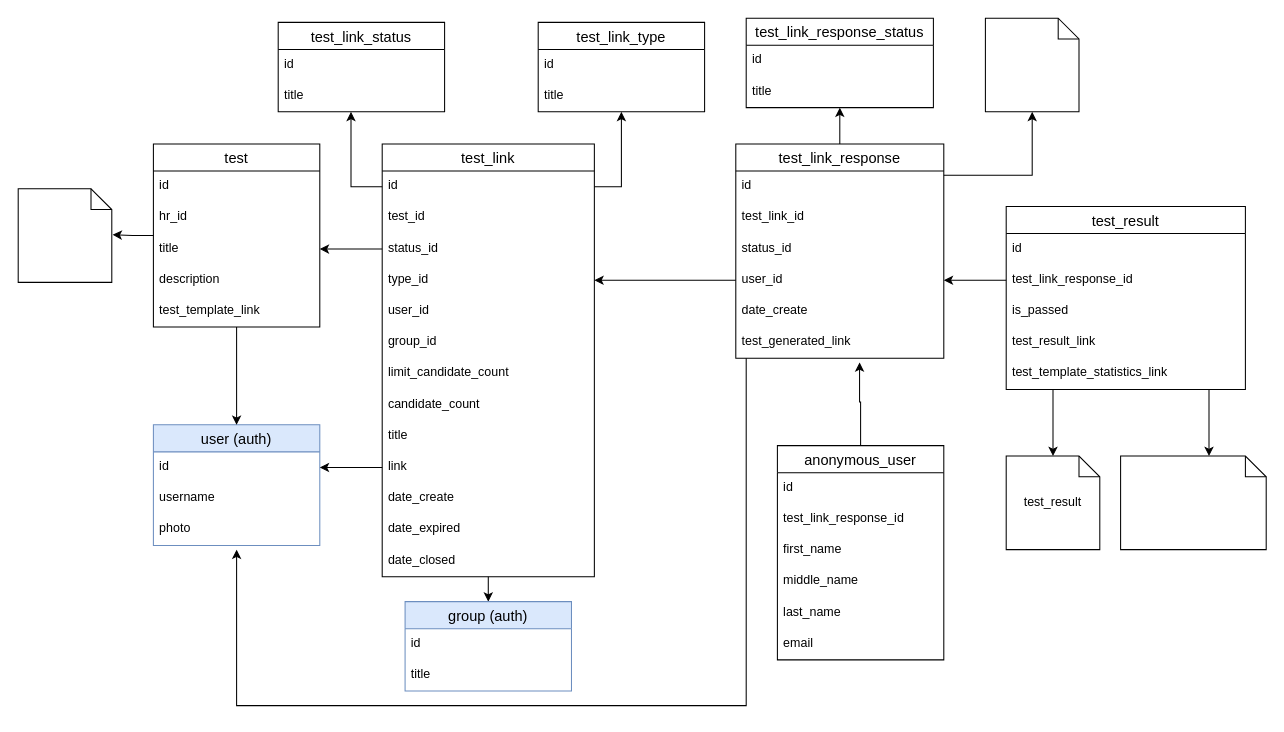
The diagram is 1284 pixels wide and 732 high, and some of its shapes have lost their labels. Here are the shapes that lost their labels. From the top down, the centre of each, then its label:
At pixel 1031 64: "test_generated".
At pixel 64 235: "test_template".
At pixel 1193 502: "test_template_statistics".
